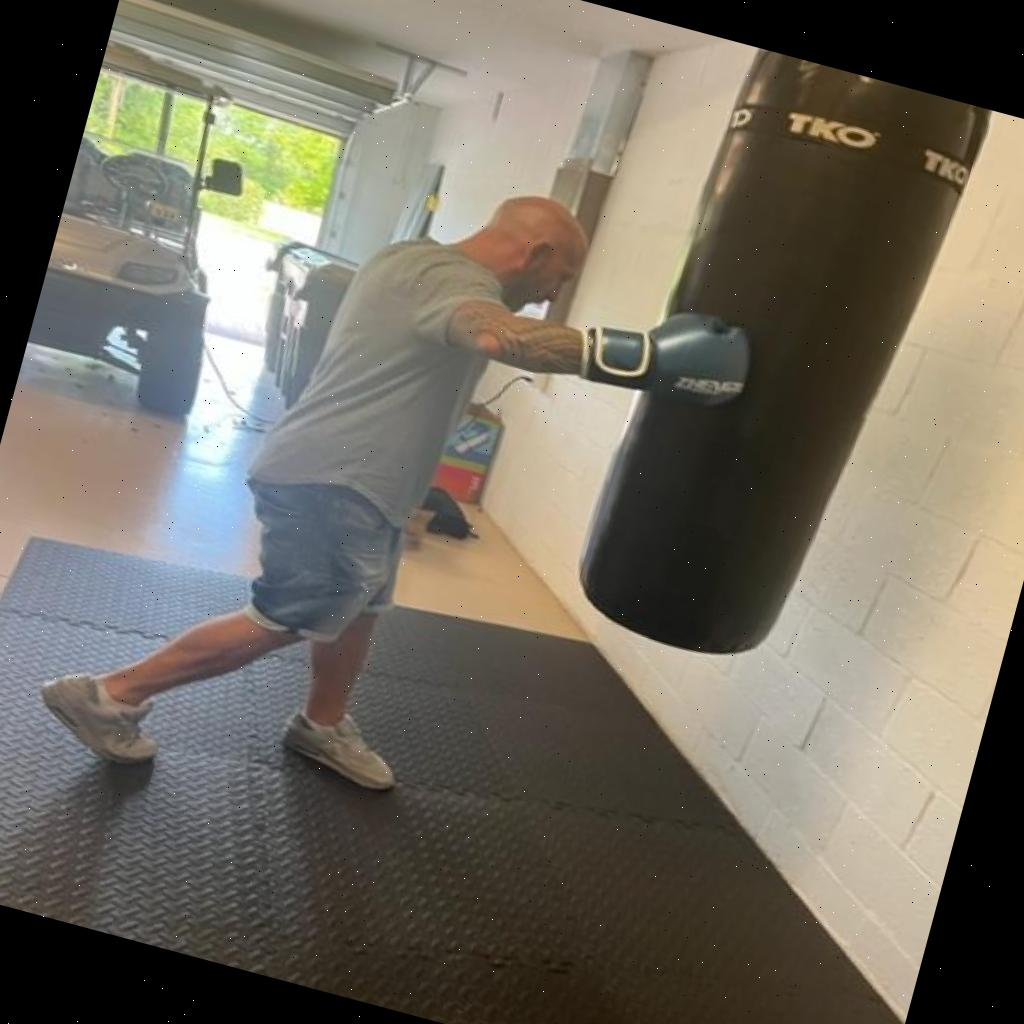hook: (314, 120, 824, 462)
